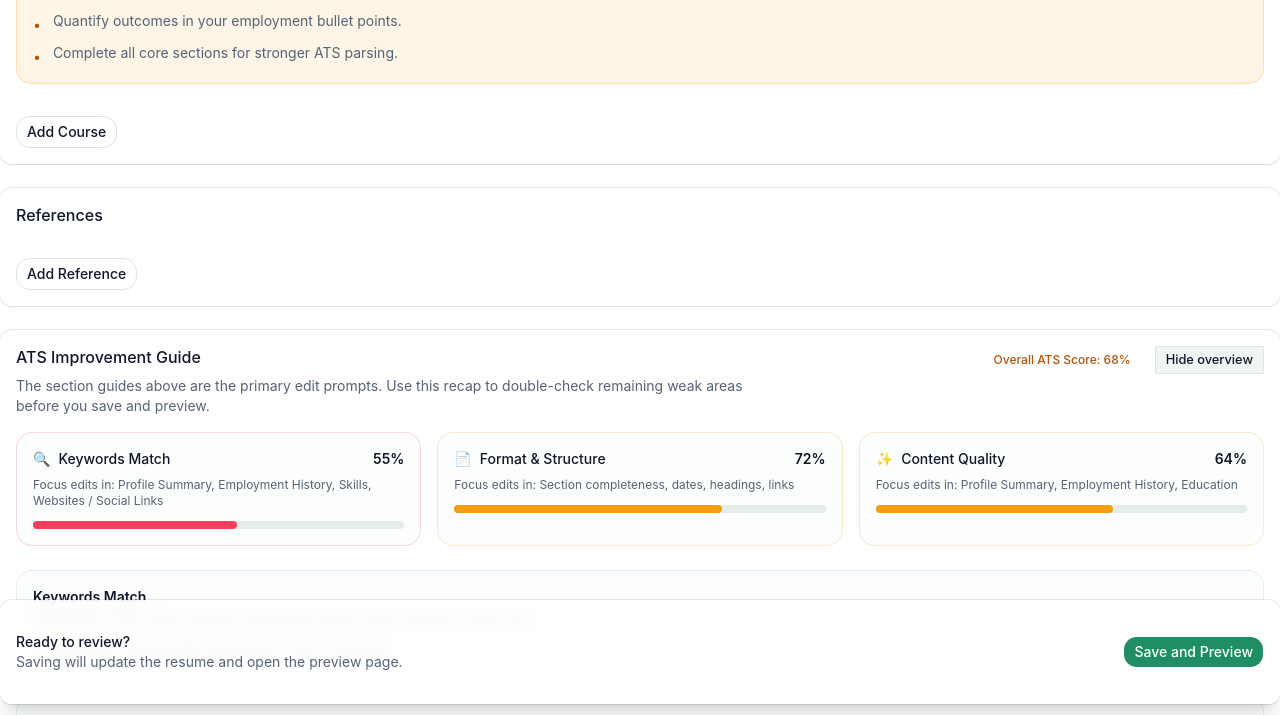
Test: ResumeForm › collapses and expands the ATS Improvement Guide
(page scrolled)
Click the button "Hide overview": (1209, 360) [1155,346,1264,374]
(page scrolled)
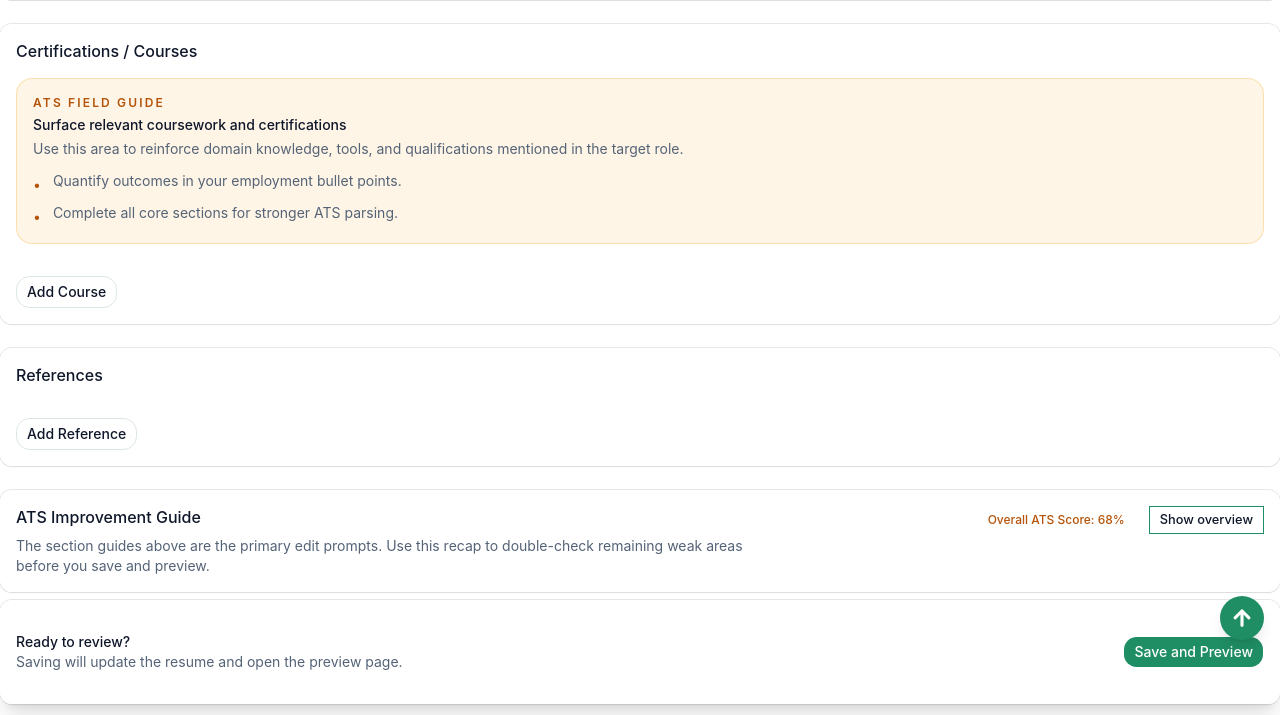
expect the button "Show overview" is collapsed: met
expect the text "Content Quality" is gone: met
Click the button "Show overview": (1206, 520) [1149,506,1264,534]
(page scrolled)
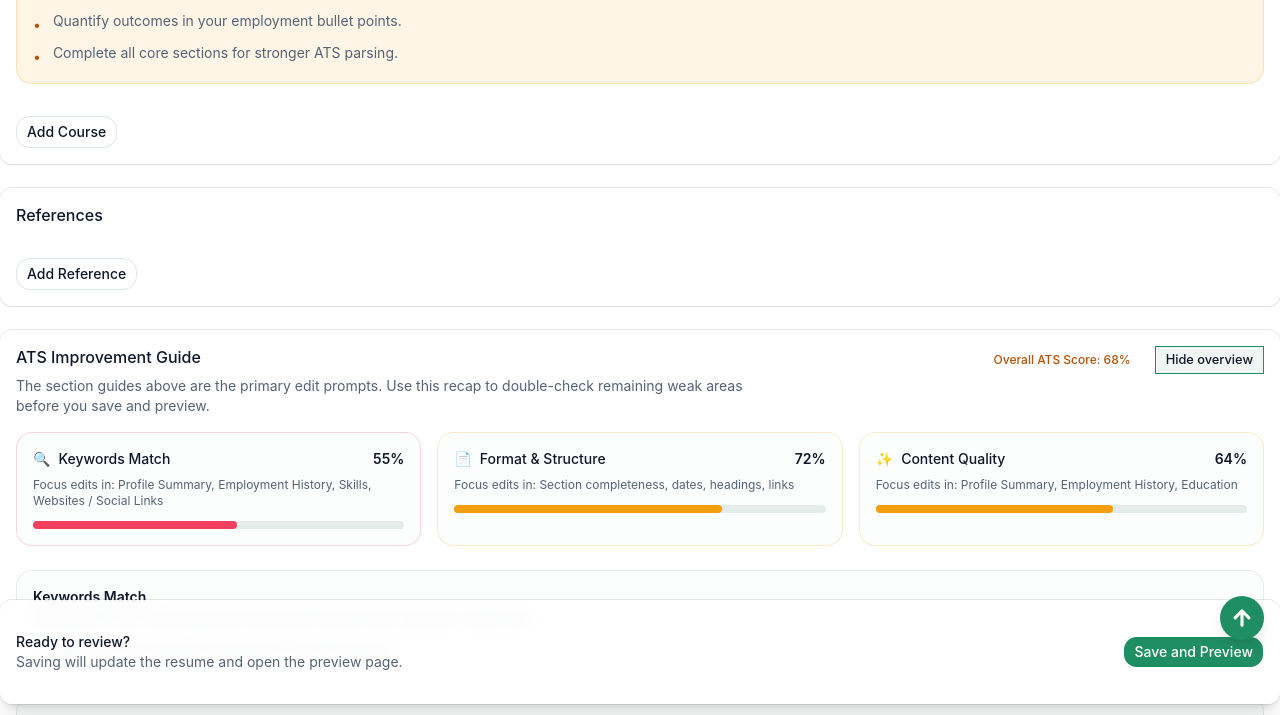
expect the button "Hide overview" is expanded: met, box [1155,346,1264,374]
expect the text "Content Quality" is shown: met, box [901,449,1005,469]
